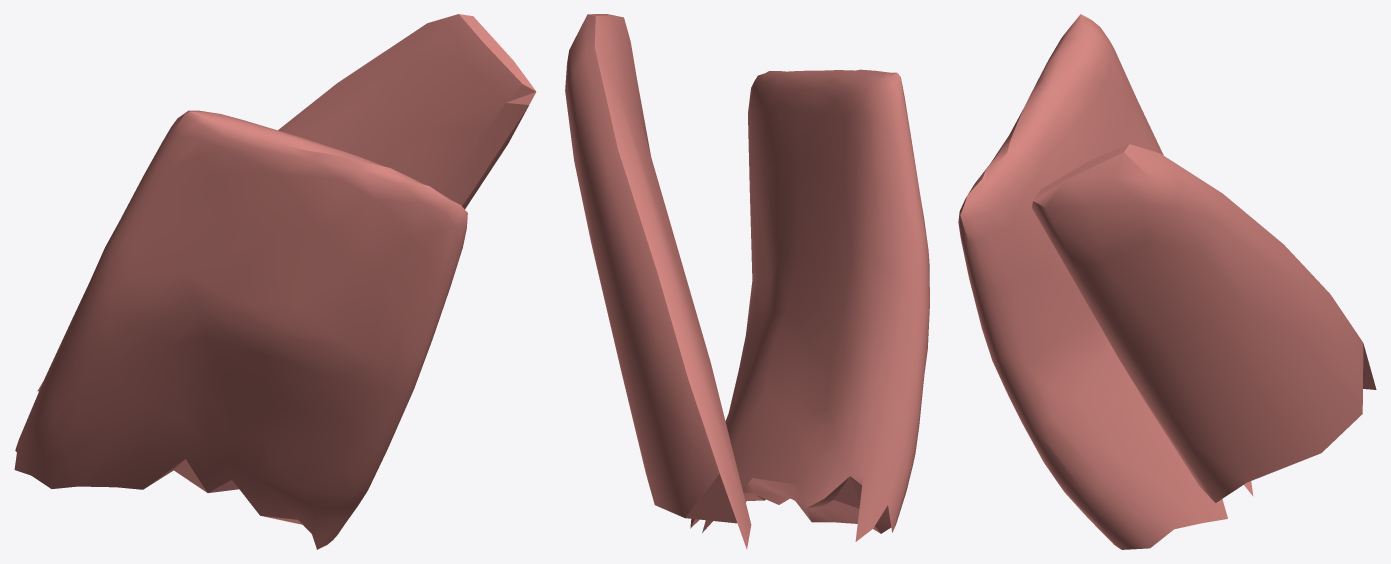
Rendered from fma81594_mm2387m.glb.
3 views of the same model, side by side, from view 1: azimuth 30°, elevation 25°; view 2: azimuth 150°, elevation 25°; view 3: azimuth 270°, elevation 25° (orthographic). The views are drawn at different scales.
Parts seen in each view (by area): view 1: FMA81594_MM2387M; view 2: FMA81594_MM2387M; view 3: FMA81594_MM2387M.
Part boxes in pixels (box(x1,y1,x2,y2)): FMA81594_MM2387M: box(14, 14, 536, 549); FMA81594_MM2387M: box(565, 14, 929, 549); FMA81594_MM2387M: box(958, 14, 1376, 549).
Size of the model in its own units: 0.0202 by 0.0234 by 0.0188.
